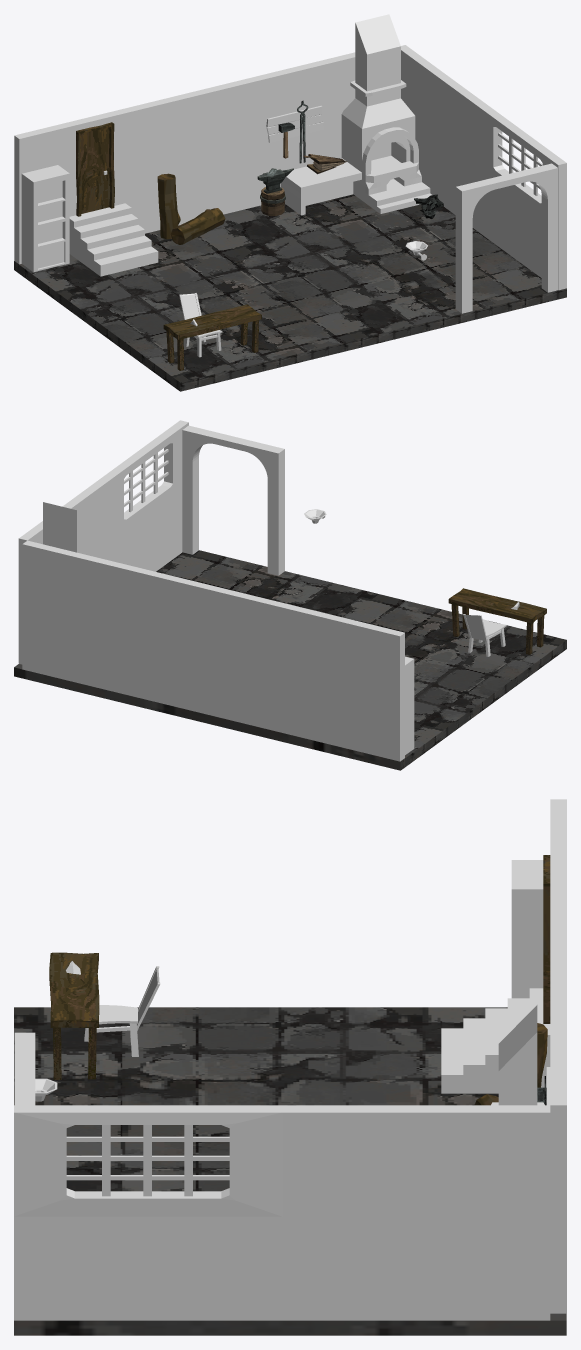
The model's file is Level-1-v3.fbx.
The picture shows the model from 3 angles, top to bottom: view 1: azimuth 30°, elevation 25°; view 2: azimuth 150°, elevation 25°; view 3: azimuth 270°, elevation 25°; orthographic projection. The views are drawn at different scales.
Parts seen in each view (by area): view 1: Isometric-View.001, Isometric-View, furnace, Arc-To-Room, Bookshelf_Thin, Staircase, Table, Door, Tool_Shelf, Wood.001, Door-Frame, Wood (+4 smaller); view 2: Isometric-View, Isometric-View.001, Arc-To-Room, Table, furnace, Window, Chair, Bookshelf_Thin; view 3: Isometric-View, Isometric-View.001, Staircase, Table, Bookshelf_Thin, Window, furnace, Chair, Arc-To-Room, Door-Frame.
Boxes of the visible parts, box(x1,y1,x2,y2) form: Isometric-View.001: box(14, 194, 566, 391); Isometric-View: box(14, 45, 566, 290); furnace: box(280, 14, 431, 215); Arc-To-Room: box(455, 163, 557, 313); Bookshelf_Thin: box(21, 165, 69, 272); Staircase: box(69, 203, 158, 276); Table: box(163, 304, 261, 370); Door: box(81, 127, 109, 213); Tool_Shelf: box(266, 105, 323, 142); Wood.001: box(157, 173, 180, 239); Door-Frame: box(76, 122, 114, 216); Wood: box(170, 208, 225, 244); Isometric-View: box(18, 420, 404, 761); Isometric-View.001: box(14, 550, 566, 770); Arc-To-Room: box(182, 425, 284, 575); Table: box(448, 588, 546, 654); furnace: box(43, 502, 88, 555); Window: box(124, 449, 168, 512); Chair: box(463, 614, 506, 656); Bookshelf_Thin: box(405, 656, 414, 754); Isometric-View: box(14, 799, 566, 1320); Isometric-View.001: box(14, 1007, 566, 1335); Staircase: box(441, 988, 550, 1093); Table: box(49, 952, 99, 1079); Bookshelf_Thin: box(511, 860, 543, 998); Window: box(66, 1125, 229, 1196); furnace: box(491, 1005, 544, 1105); Chair: box(84, 966, 160, 1056); Arc-To-Room: box(14, 1032, 35, 1105); Door-Frame: box(543, 855, 550, 1023).
Bounding box in the file's own units: 1332 × 568 × 992.
20 materials, 9 textured.
